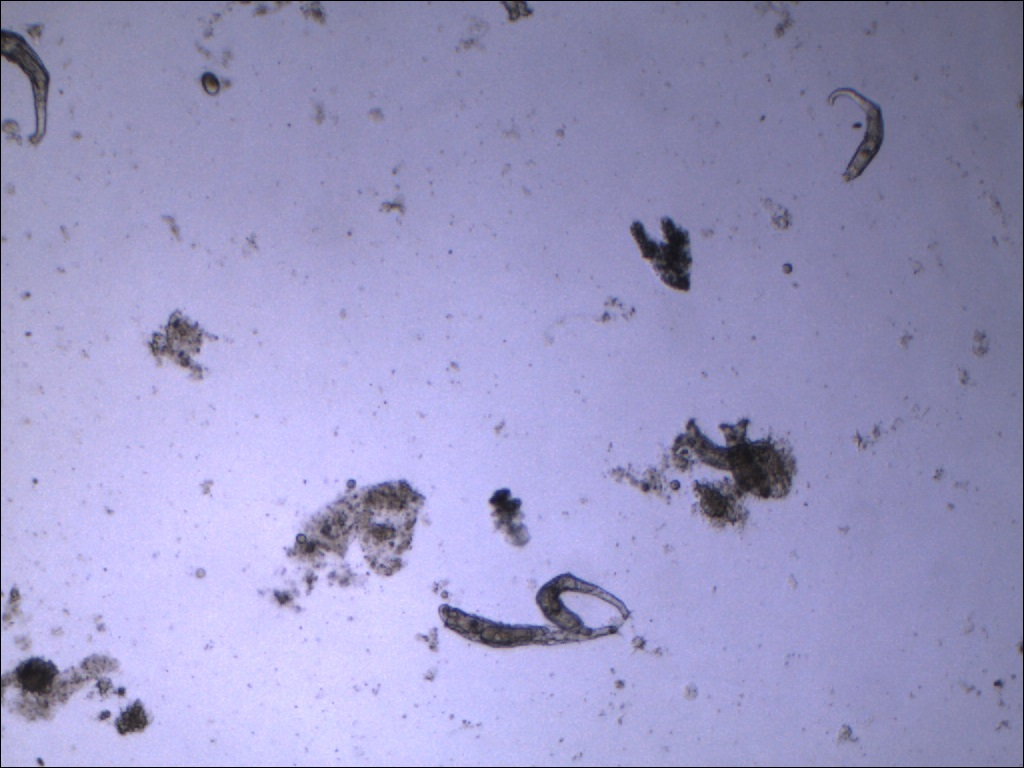amoeba: (619, 212, 701, 298)
